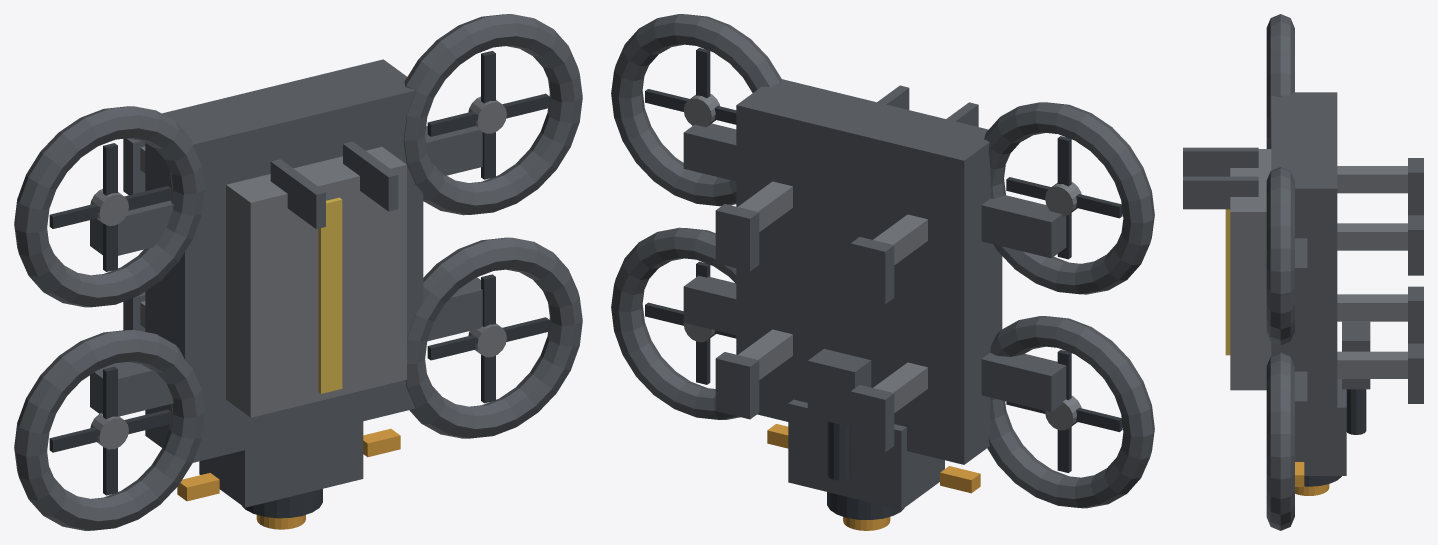
The model's file is project_exodus_drone.glb.
The picture shows the model from 3 angles, left to right: view 1: azimuth 30°, elevation 25°; view 2: azimuth 150°, elevation 25°; view 3: azimuth 270°, elevation 25°; orthographic projection. The views are drawn at different scales.
Parts seen in each view (by area): view 1: Body_Main, Body_Top, RotorDuct_1, RotorDuct_3, RotorDuct_4, RotorDuct_2, Nose_Armor, Top_Yellow_Stripe, Arm_1, Arm_3, Arm_4, Antenna_2 (+19 smaller); view 2: Body_Main, RotorDuct_1, RotorDuct_3, RotorDuct_4, RotorDuct_2, Nose_Armor, Arm_3, Arm_1, CannonMount, LandingFoot_1, LandingFoot_2, LandingFoot_3 (+21 smaller); view 3: Body_Main, Body_Top, RotorDuct_2, RotorDuct_4, RotorDuct_3, Antenna_2, Antenna_1, LandingLeg_2, LandingLeg_3, LandingLeg_4, LandingLeg_1, Nose_Armor (+11 smaller).
Part boxes in pixels (x1,y1,x2,y2): Body_Main: (145,59,423,462); Body_Top: (226,147,406,417); RotorDuct_1: (14,329,204,530); RotorDuct_3: (14,106,204,307); RotorDuct_4: (403,14,582,215); RotorDuct_2: (405,237,582,438); Nose_Armor: (199,421,363,507); Top_Yellow_Stripe: (318,197,342,393); Arm_1: (90,362,173,416); Arm_3: (90,200,173,255); Arm_4: (425,126,482,175); Antenna_2: (343,141,398,211); Body_Main: (736,79,1002,464); RotorDuct_1: (987,316,1154,508); RotorDuct_3: (984,102,1154,294); RotorDuct_4: (611,14,781,206); RotorDuct_2: (611,227,740,419); Nose_Armor: (788,399,944,509); Arm_3: (981,195,1066,258); Arm_1: (981,353,1066,412); CannonMount: (807,349,871,426); LandingFoot_1: (850,385,894,452); LandingFoot_2: (715,352,759,419); LandingFoot_3: (850,237,894,304); Body_Main: (1271,92,1337,452); Body_Top: (1230,149,1271,390); RotorDuct_2: (1266,352,1294,530); RotorDuct_4: (1266,167,1294,345); RotorDuct_3: (1266,14,1294,148); Antenna_2: (1183,176,1258,209); Antenna_1: (1183,147,1258,176); LandingLeg_2: (1337,351,1407,378); LandingLeg_3: (1337,166,1407,193); LandingLeg_4: (1337,223,1407,250); LandingLeg_1: (1337,294,1407,321); Nose_Armor: (1295,379,1346,475).
Bounding box in the file's own units: 3.44 × 2.73 × 1.53.
